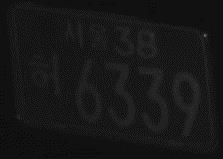3: (137, 64, 171, 133), (106, 60, 137, 131), (112, 24, 135, 59)
6: (74, 57, 106, 125)
8: (135, 26, 159, 60)
9: (171, 70, 202, 140)
서울_O: (59, 16, 111, 55)
허: (28, 50, 64, 97)
